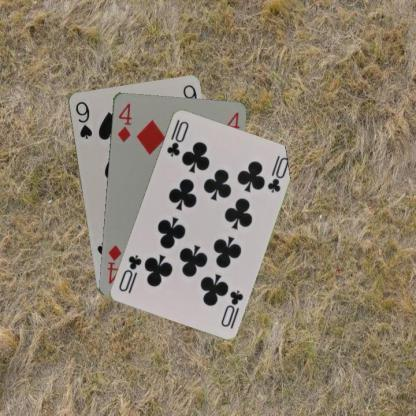10c: (218, 287, 245, 330), (164, 118, 190, 158)
4d: (115, 101, 132, 144)
9s: (73, 98, 93, 140)
